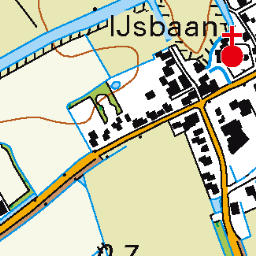church: (217, 24, 246, 70)
